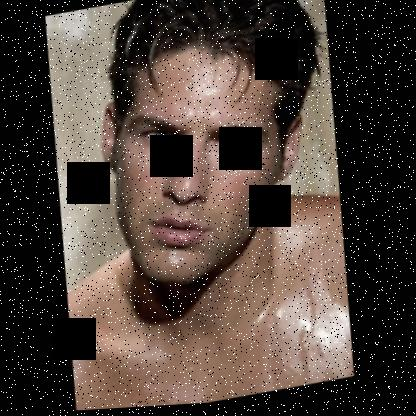Male: (85, 27, 322, 297)
